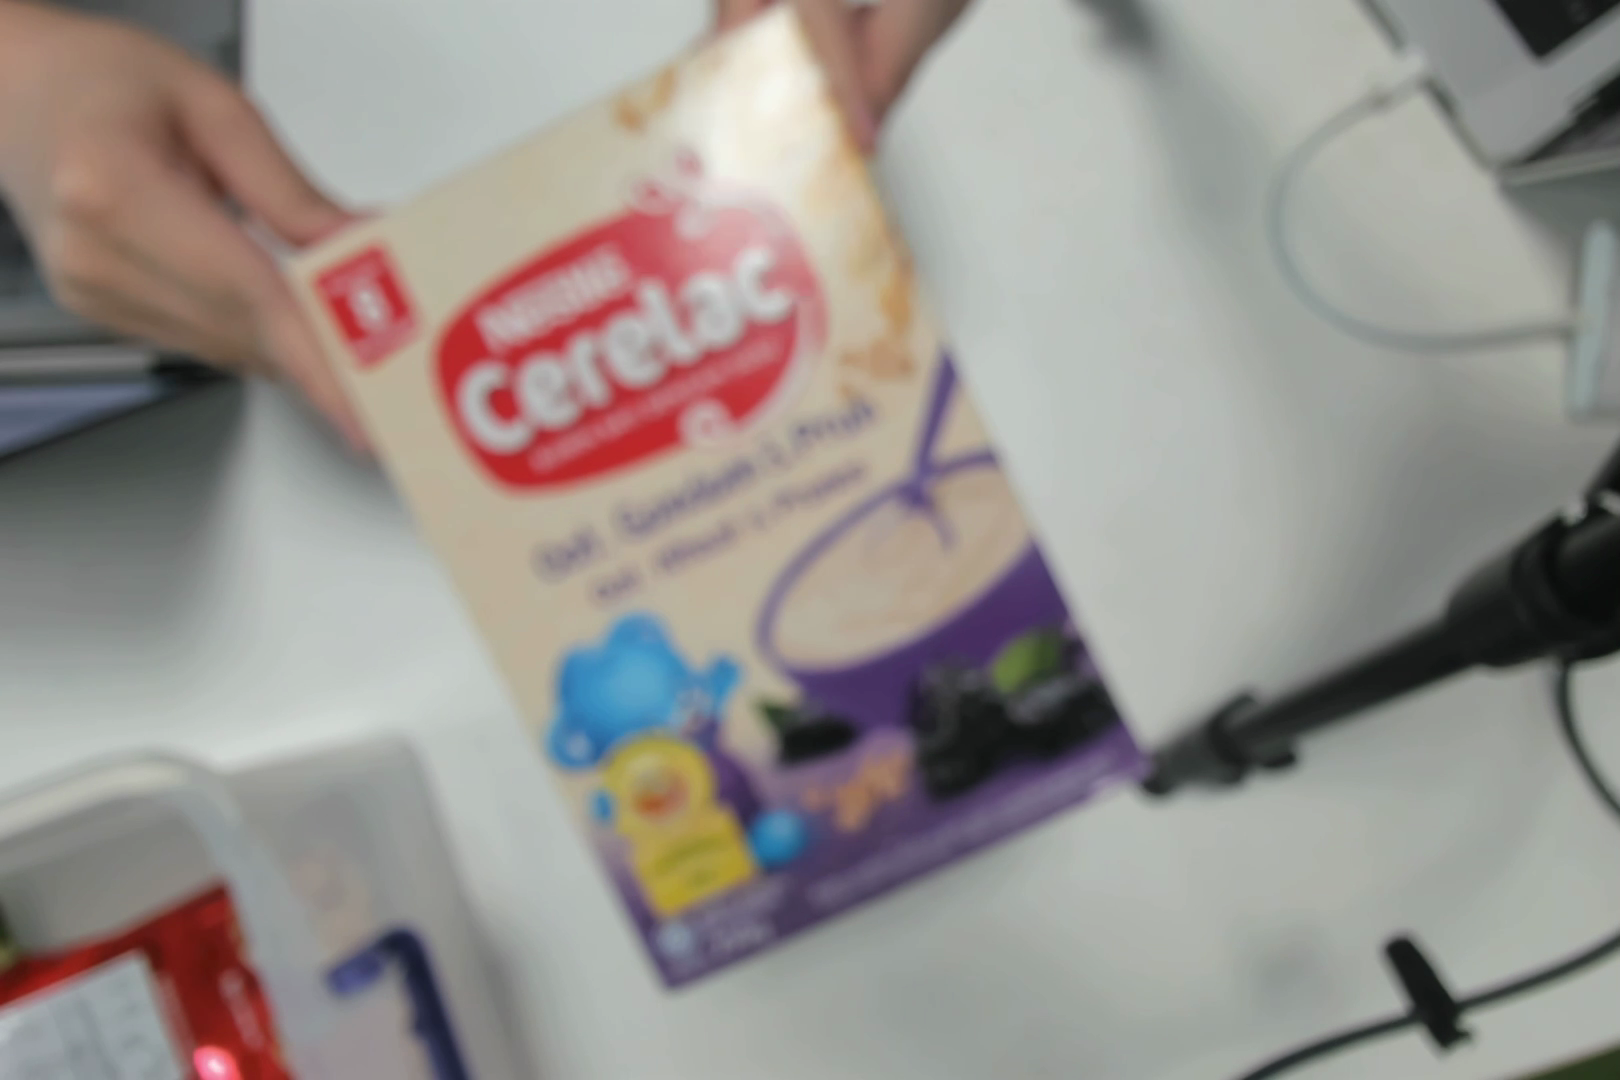d: (334, 227, 1121, 991)
